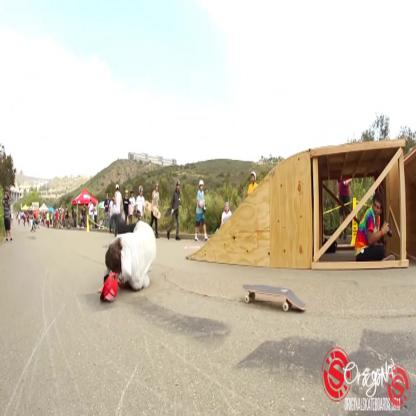Fall_Down: (100, 206, 158, 294)
